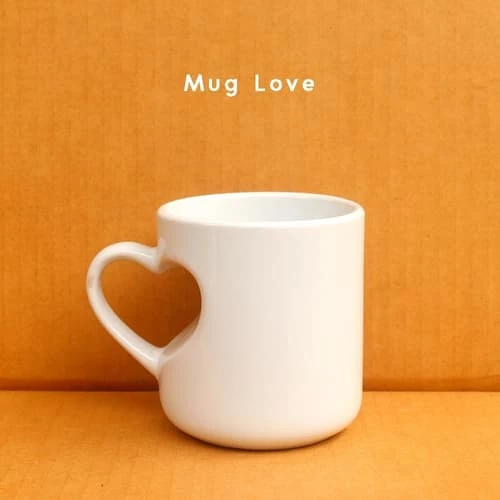gelas: (87, 189, 364, 446)
